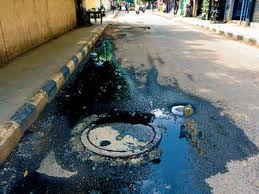Manhole-Closed: (85, 104, 175, 164)
